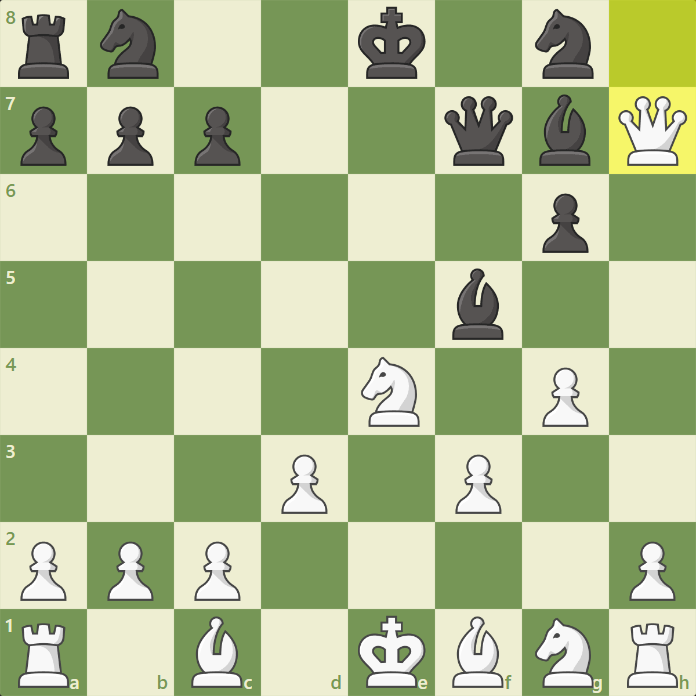B: (188, 613, 245, 691), (449, 614, 505, 691)
K: (356, 614, 428, 690)
N: (533, 616, 597, 691), (359, 355, 422, 430)
P: (627, 540, 678, 606), (453, 452, 504, 518), (540, 365, 591, 431), (280, 451, 331, 517), (191, 538, 242, 604), (104, 538, 155, 604), (18, 539, 69, 605)
Q: (616, 95, 690, 169)
R: (11, 620, 74, 691), (623, 621, 682, 692)
b: (538, 92, 595, 170), (448, 266, 505, 343)
k: (354, 4, 430, 83)
n: (95, 7, 163, 83), (532, 6, 596, 82)
p: (191, 102, 244, 170), (103, 102, 156, 170), (15, 103, 68, 171), (540, 190, 591, 258)
q: (442, 93, 517, 170)
r: (11, 12, 73, 83)
